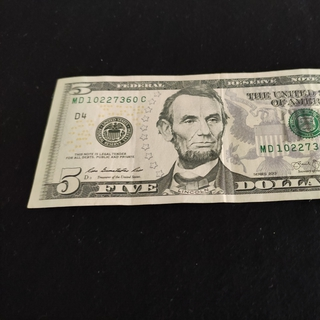5USDFront: (26, 67, 320, 210)
